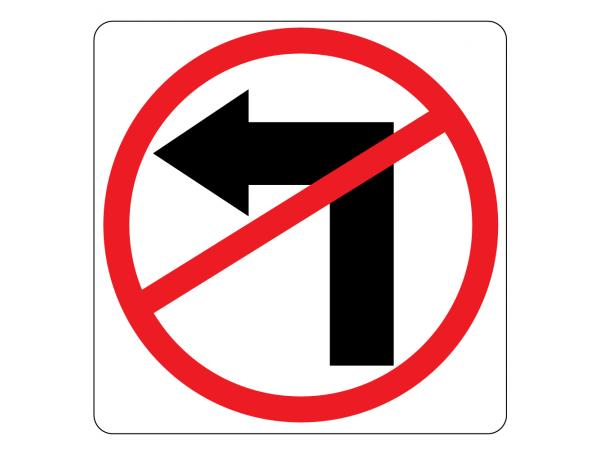no_left_turn: (102, 25, 497, 422)
